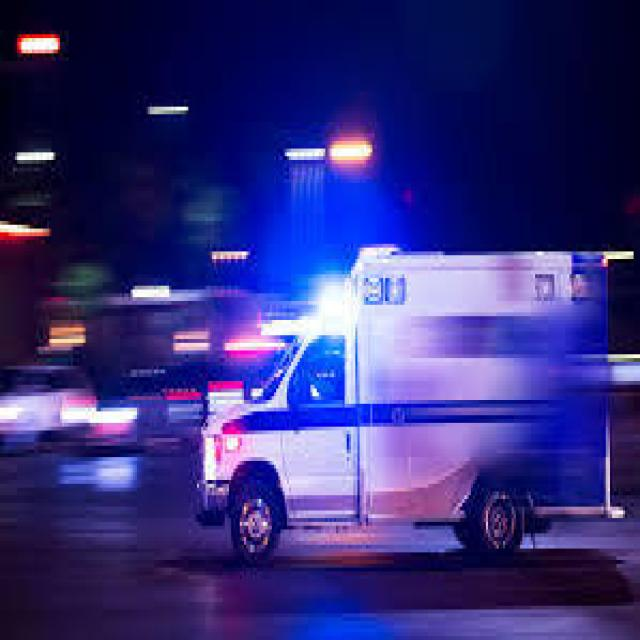ambulance: (257, 242, 491, 398)
